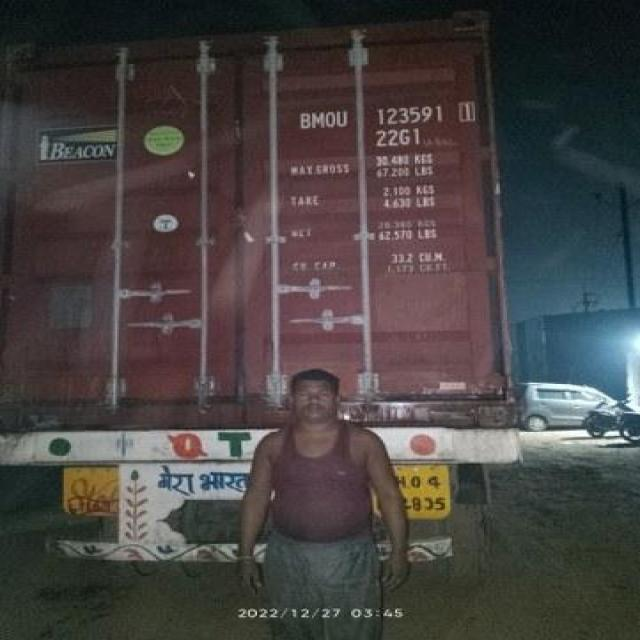ISO: (371, 128, 429, 146)
container_number: (300, 99, 473, 128)
